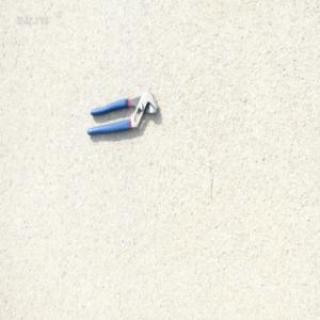Pliertrack_idkeyframe: (86, 88, 160, 136)
